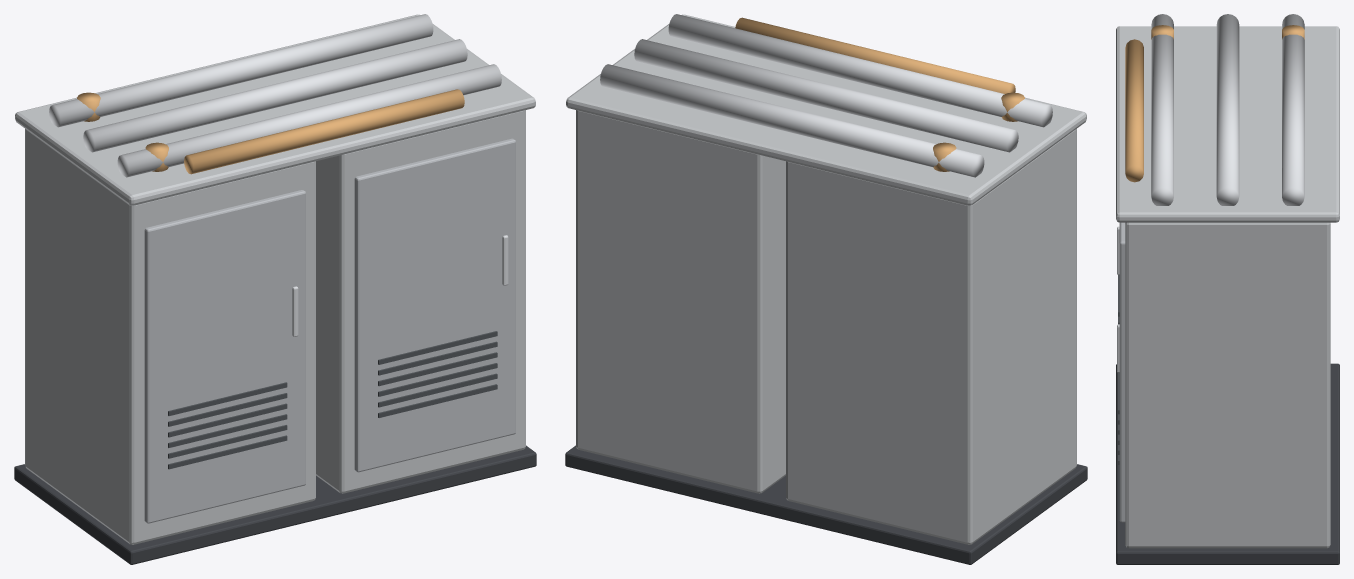
Rendered from utility.glb.
3 renders of one model, left to right at view 1: azimuth 30°, elevation 25°; view 2: azimuth 150°, elevation 25°; view 3: azimuth 270°, elevation 25°, orthographic. The views are drawn at different scales.
Parts seen in each view (by area): view 1: Cube; view 2: Cube; view 3: Cube.
Boxes of the visible parts, bbox=[...] form: Cube: bbox=[14, 14, 536, 564]; Cube: bbox=[565, 14, 1087, 564]; Cube: bbox=[1116, 14, 1339, 564].
Size of the model in its own units: 2.4 by 2.19 by 1.2.
